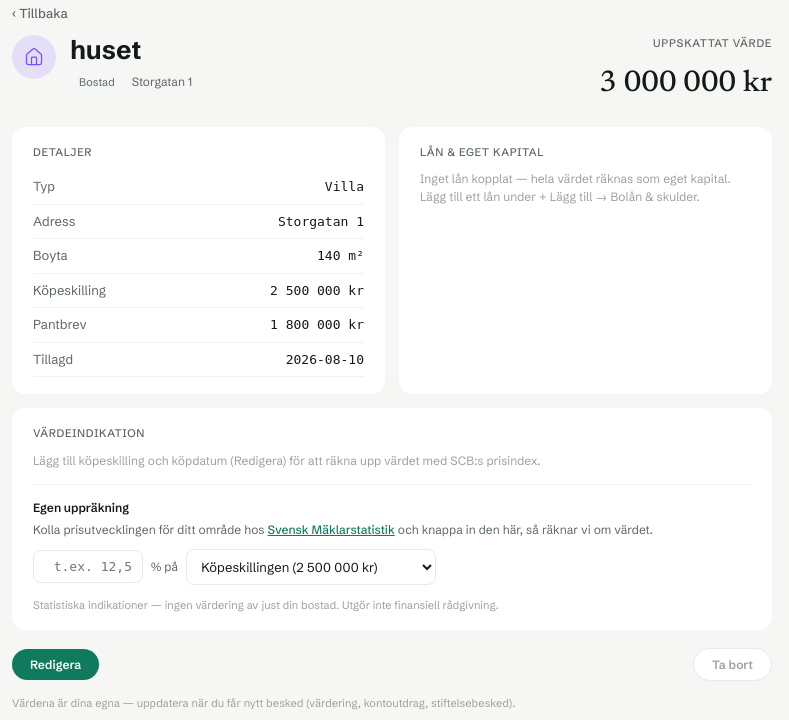
ManualAssetView › applies the manual percentage to the current value when chosen as base
Select "Nuvarande värde (3 000 000 kr)" in the dropdown named "Uppräkningsbas" at (311, 566), box [186,548,436,584]
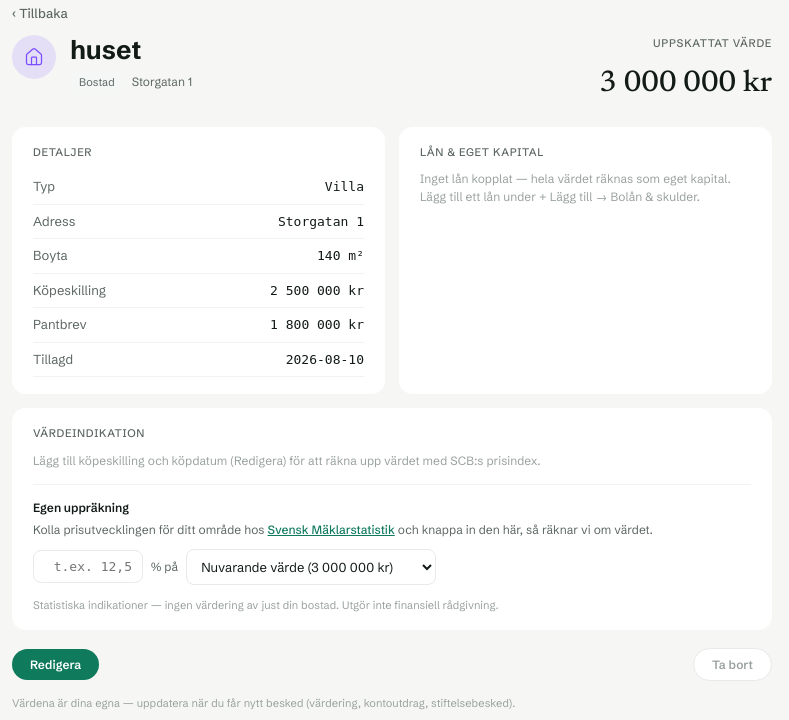
Type "-10" into the field named "Prisutveckling i procent" at (88, 566), box [33,550,143,583]
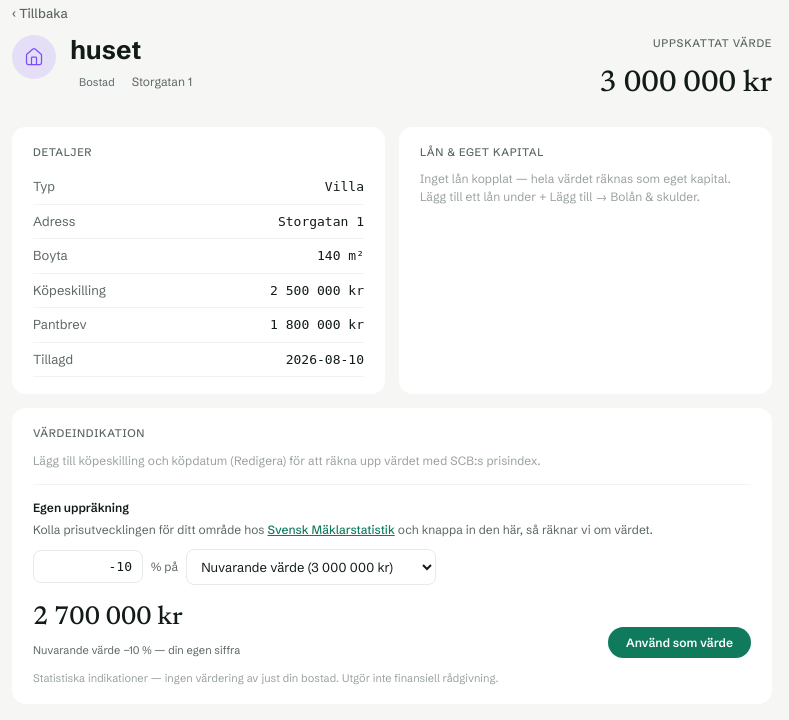
Now the text "2 700 000 kr" is shown, box [33,604,183,630]
